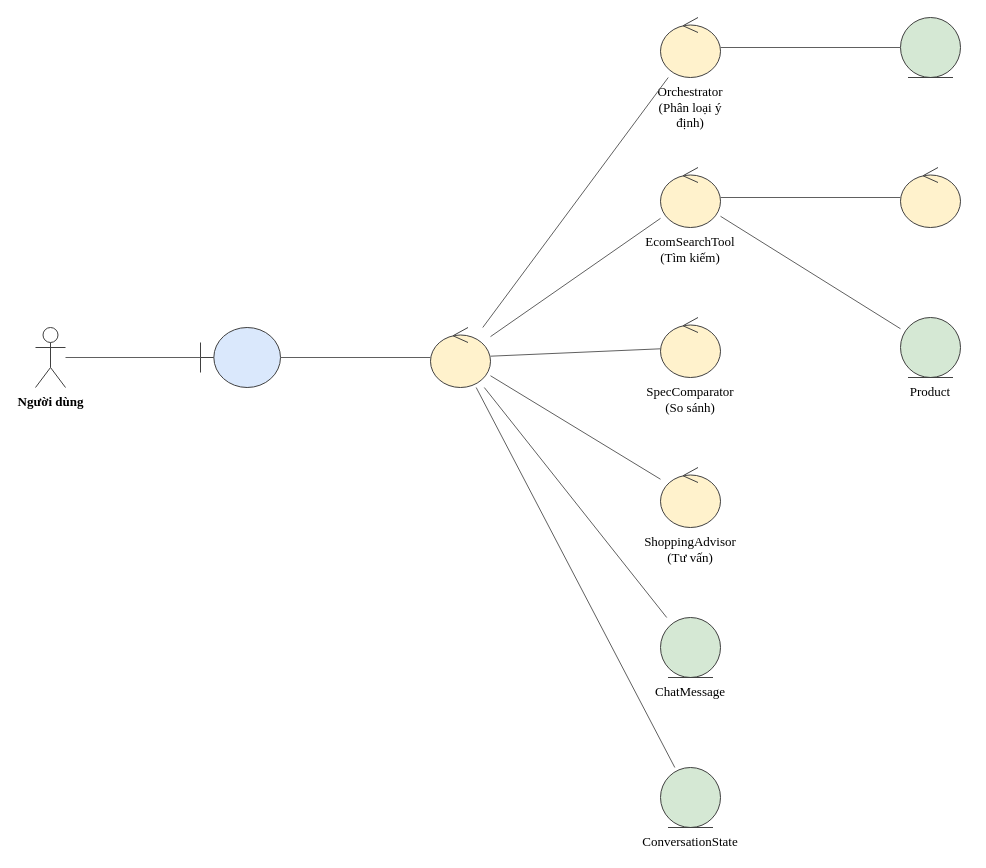
The diagram is 986 pixels wide and 868 high, and some of its shapes have lost their labels. Here are the shapes that lost their labels. From the top down, the centre of each, then its label:
At point (930, 47): "SearchCriteria".
At point (930, 197): "ProductRanker (Xếp hạng)".
At point (240, 357): "ChatView (Màn hình tư vấn)".
At point (460, 357): "AgentWorkflow (Điều phối)".
